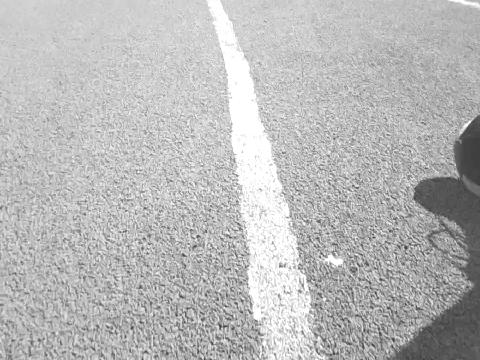Lines: (204, 0, 326, 360)
